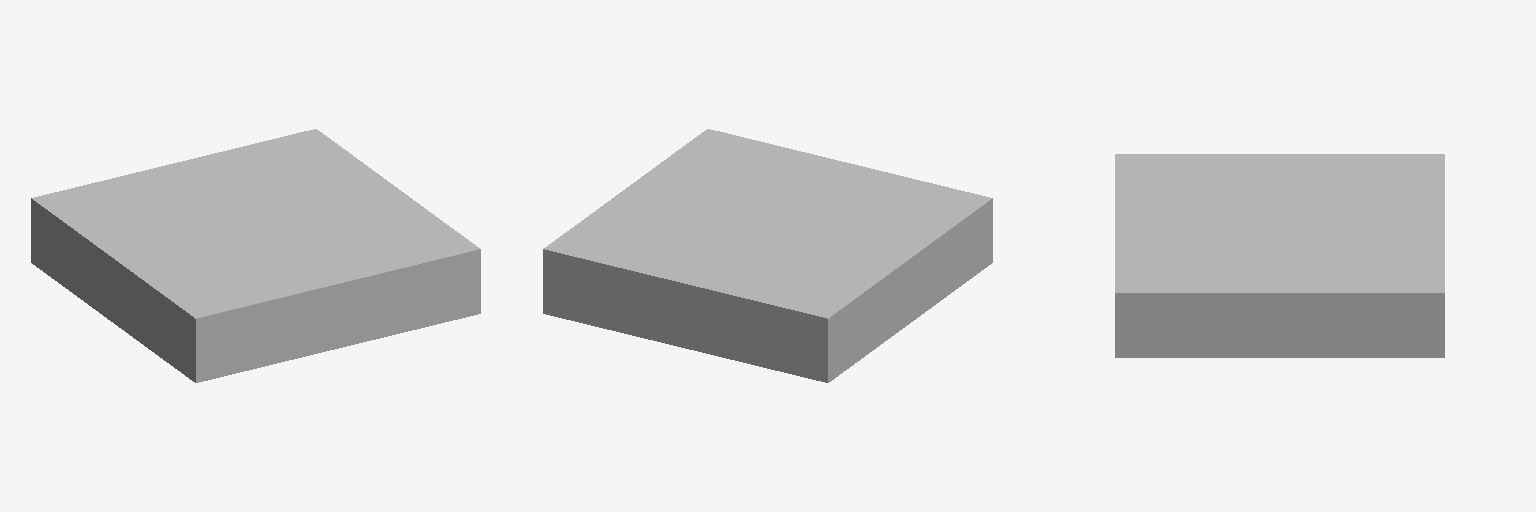
Rendered from towerSquareMidColor.obj.
3 views of the same model, side by side, from view 1: azimuth 30°, elevation 25°; view 2: azimuth 150°, elevation 25°; view 3: azimuth 270°, elevation 25° (orthographic).
Visible parts, largest first — view 1: towerSquareMidColor; view 2: towerSquareMidColor; view 3: towerSquareMidColor.
Boxes of the visible parts, box(x1,y1,x2,y2) form: towerSquareMidColor: box(31, 129, 480, 382); towerSquareMidColor: box(543, 129, 992, 382); towerSquareMidColor: box(1115, 154, 1444, 357).
Size of the model in its own units: 9.3 by 2.02 by 9.3.